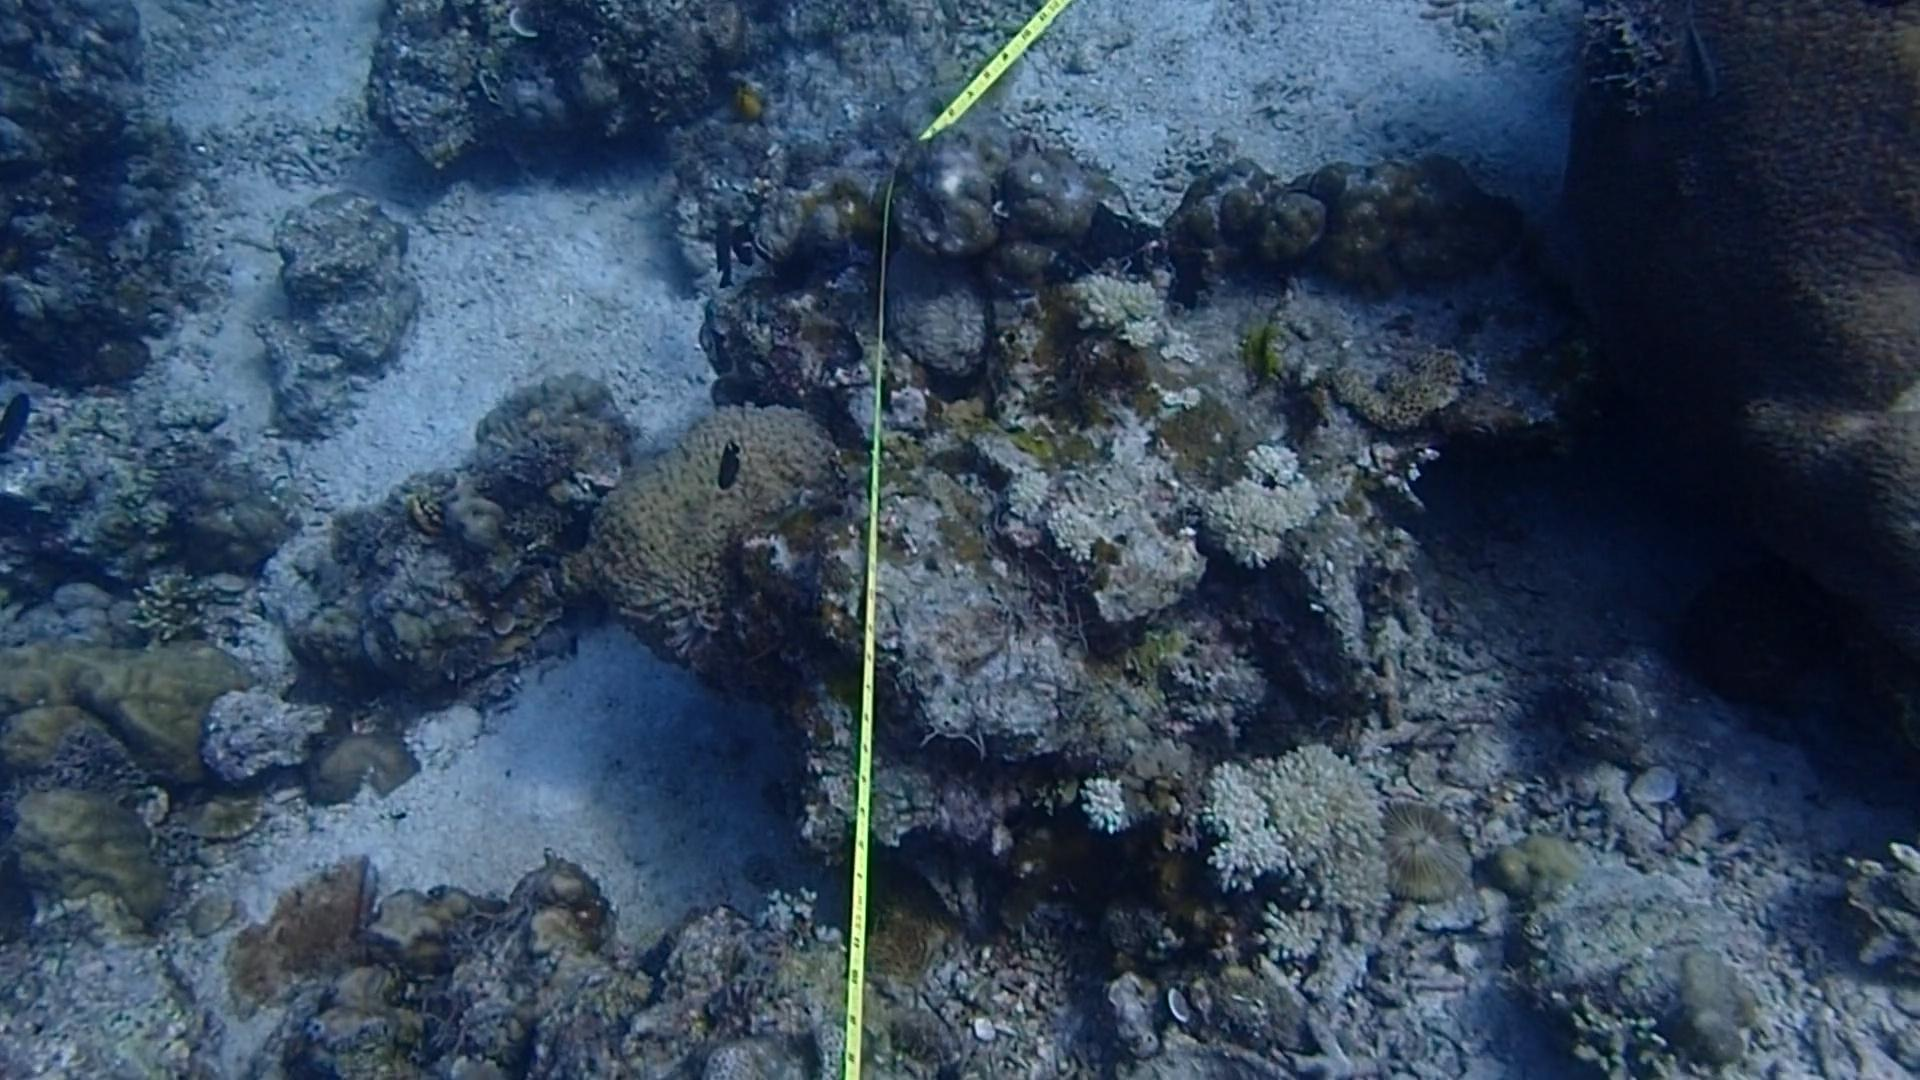Dark Fish: (539, 502, 612, 567), (0, 378, 44, 462), (721, 208, 774, 274), (708, 190, 746, 278), (699, 307, 738, 371), (712, 438, 749, 493)
